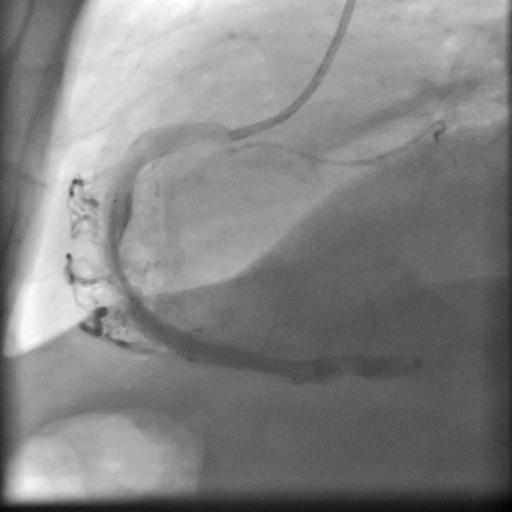Stenosis: (104, 239, 138, 300)
